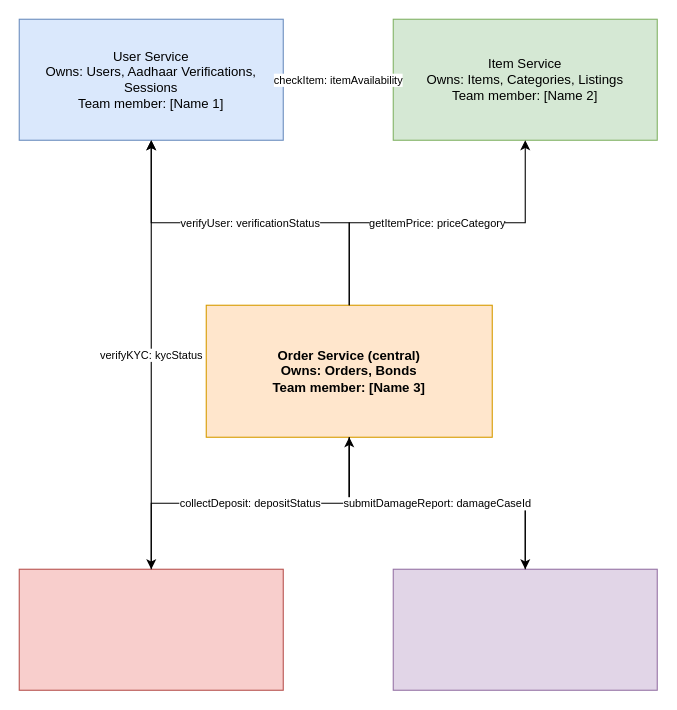
This 677x710 diagram has some shape labels left out. The shapes that lost their labels are listed below. From the top down, each one's centre as x and y in pixels, then its label:
point 150,629: Payment Service Owns: Payments, Deposits Team member: [Name 4]
point 524,629: Media Service Owns: Photos, Damage Reports Team member: [Name 5]
